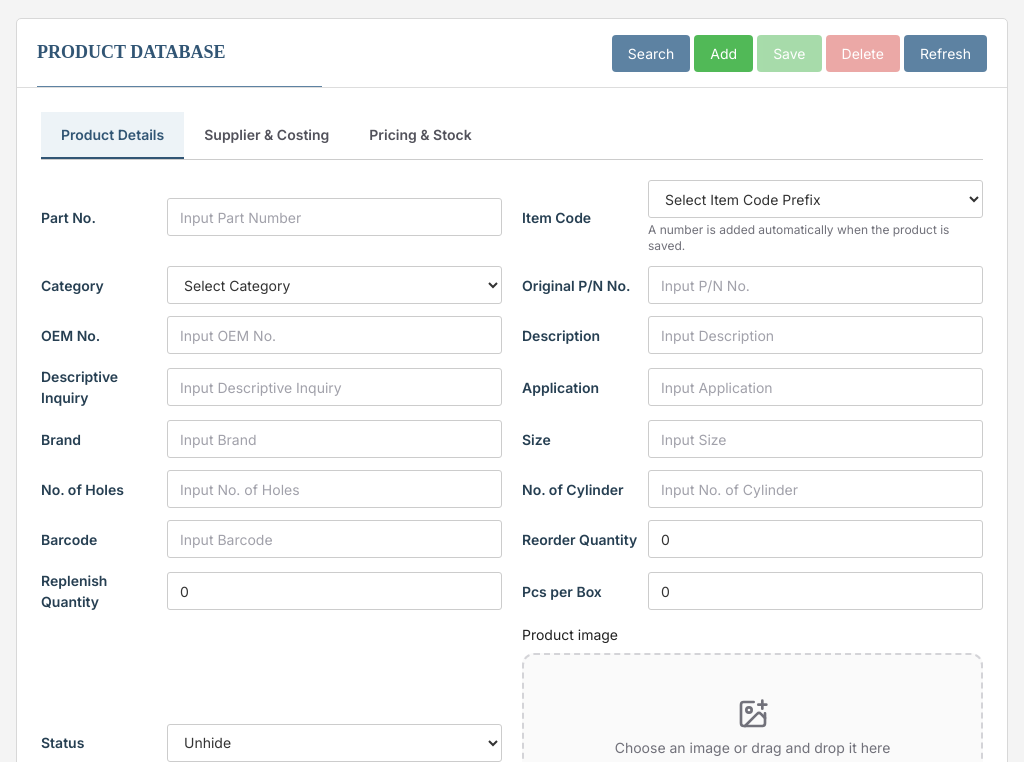
ProductDatabase › matches the legacy product database form and record-table workflow
This screenshot has width=1024, height=762.
Check: the button "Search" is shown, box [612,34,690,72]
Check: the button "Add" is shown, box [694,34,753,72]
Click the tab "Supplier & Costing". click: {"x": 267, "y": 136}
box: [184,112,349,159]
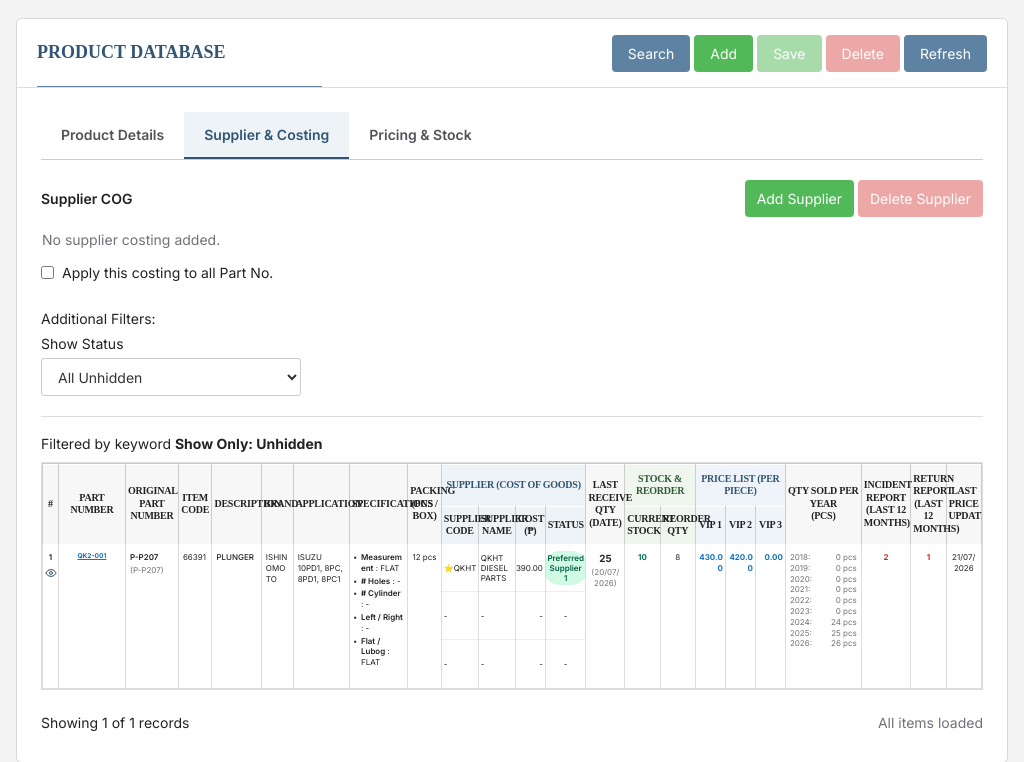
Check: the text "QKHT DIESEL PARTS" is shown, box [479,544,515,592]
Check: the heading "Supplier COG" is shown, box [41,188,132,209]
Click the tab "Pricing & Stock". click: {"x": 420, "y": 136}
box: [349,112,492,159]
(page scrolled)
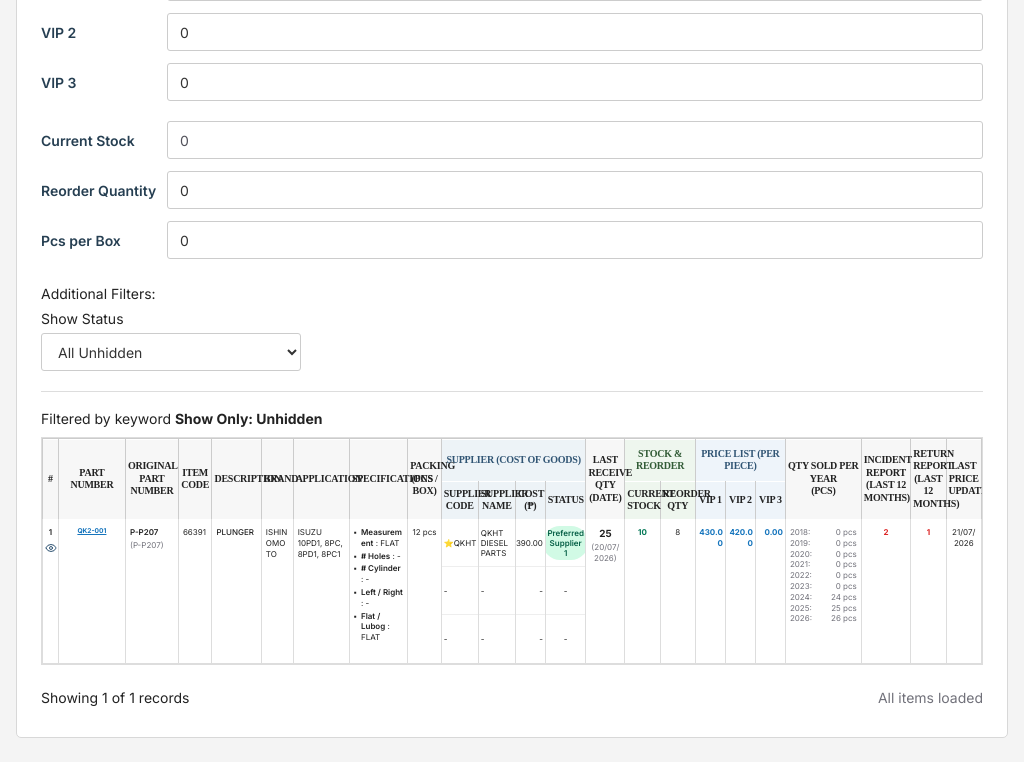
Check: the column heading "Specifications" is shown, box [350,438,408,518]
Check: the text "VIP 2" is shown, box [41,24,76,40]
Check: the text "VIP 3" is shown, box [41,74,76,90]
Click the button titled "View full details". click: {"x": 50, "y": 548}
box: [45,542,56,554]
(page scrolled)
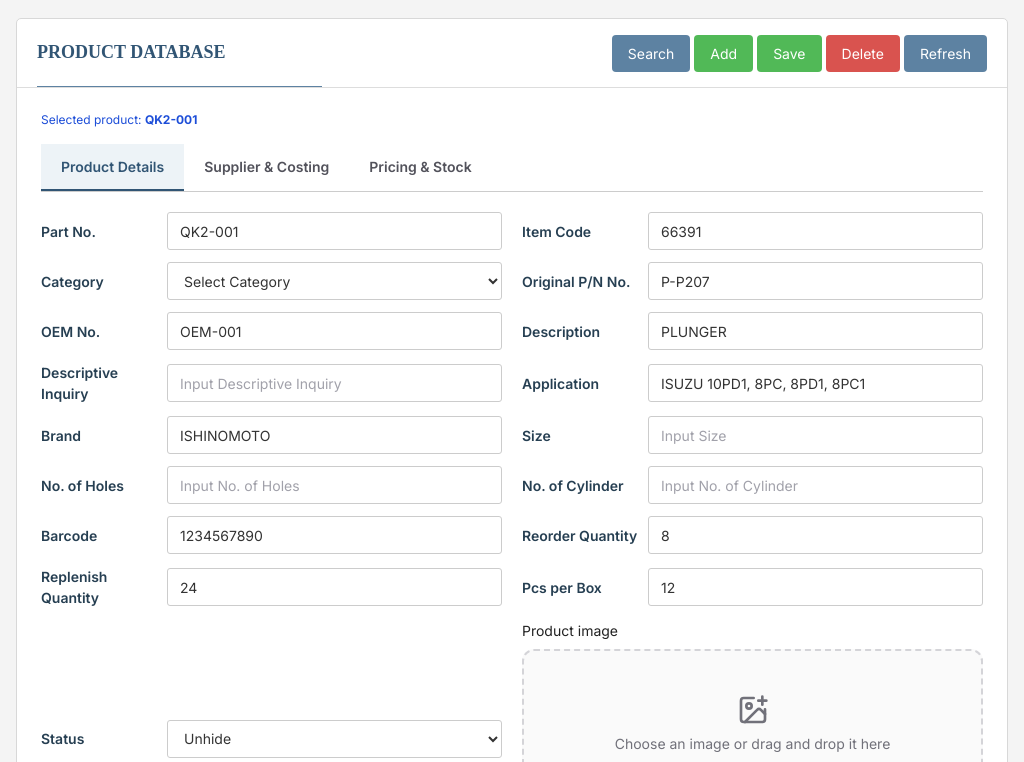
Check: the number field showing "8" next to "Reorder Quantity" is shown, box [648,516,983,554]
Check: the field showing "QK2-001" next to "Part No." is shown, box [167,212,502,250]
Check: the 6th field showing "ISUZU 10PD1, 8PC, 8PD1, 8PC1" is shown, box [648,364,983,402]
